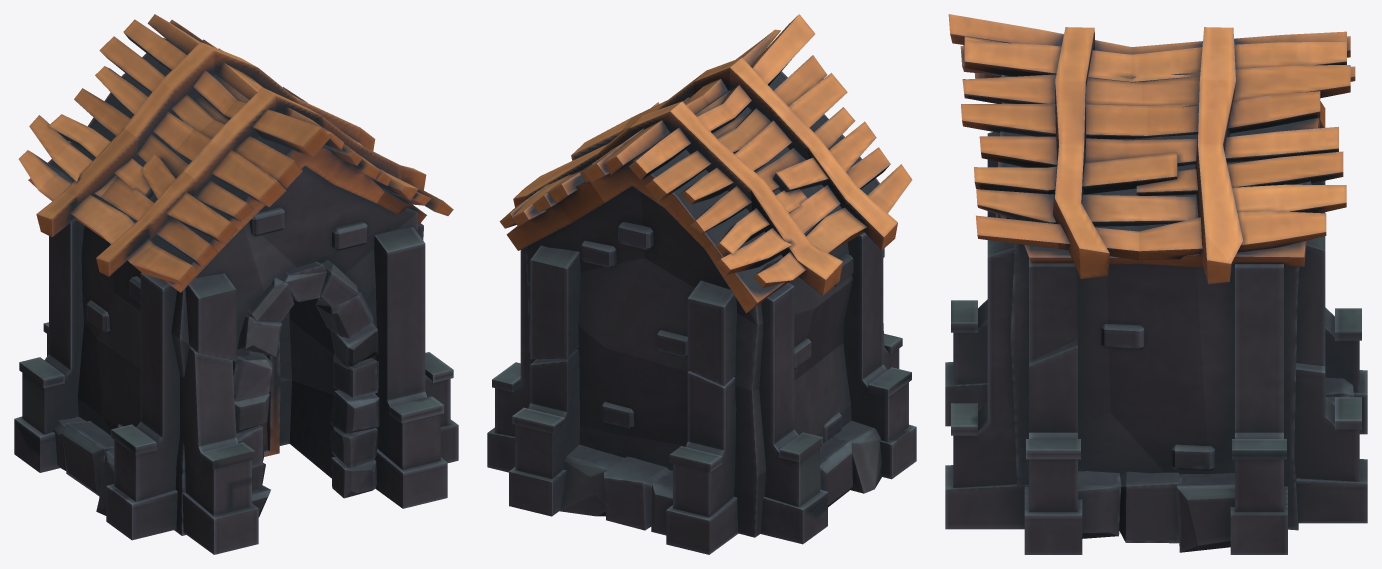
Rendered from House.glb.
3 views of the same model, side by side, from view 1: azimuth 30°, elevation 25°; view 2: azimuth 150°, elevation 25°; view 3: azimuth 270°, elevation 25° (orthographic). The views are drawn at different scales.
Visible parts, largest first — view 1: node_f663c406_12e2_4a49_aa72_a1439db10f0c_mesh0; view 2: node_f663c406_12e2_4a49_aa72_a1439db10f0c_mesh0; view 3: node_f663c406_12e2_4a49_aa72_a1439db10f0c_mesh0.
Part boxes in pixels (x1,y1,x2,y2): node_f663c406_12e2_4a49_aa72_a1439db10f0c_mesh0: [14, 14, 458, 554]; node_f663c406_12e2_4a49_aa72_a1439db10f0c_mesh0: [487, 14, 916, 554]; node_f663c406_12e2_4a49_aa72_a1439db10f0c_mesh0: [945, 14, 1367, 554].
Bounding box in the file's own units: 1.55 × 1.84 × 1.55.
Materials: 1 (1 with a texture image).
